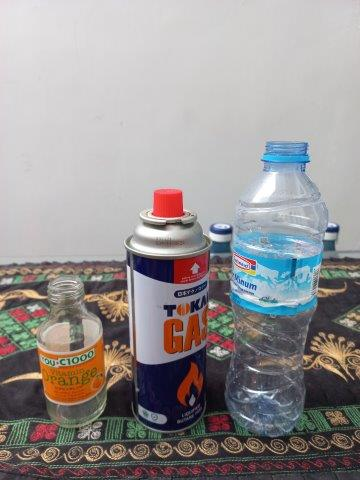botolkaca: (36, 279, 108, 424)
botolplastik: (231, 143, 324, 428)
kaleng: (125, 189, 212, 423)
